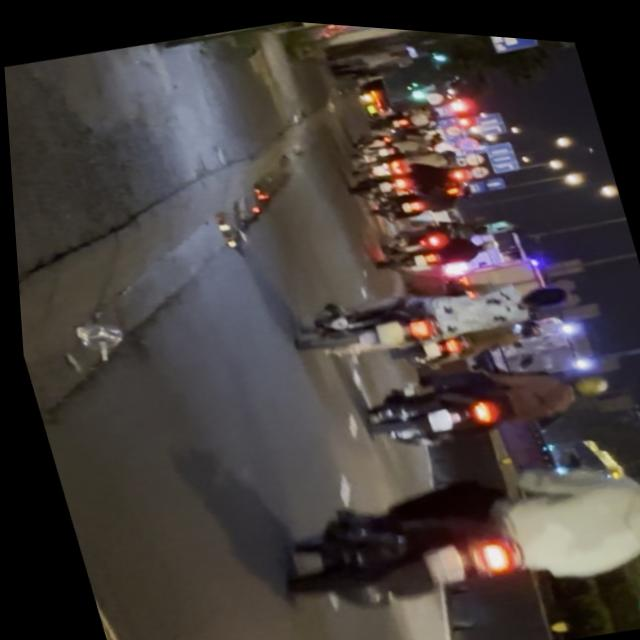helmet: (561, 357, 609, 393)
licenseplate: (258, 406, 640, 640), (277, 231, 582, 382), (339, 315, 624, 466)
motorcyclist: (510, 267, 568, 307)
nohelmet: (416, 536, 462, 582), (419, 399, 449, 427)
